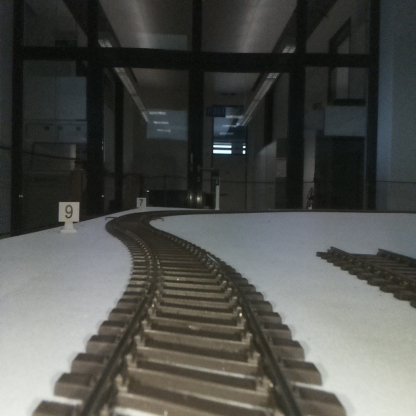white-stop-7: (137, 196, 146, 210)
white-stop-9: (59, 202, 78, 232)
